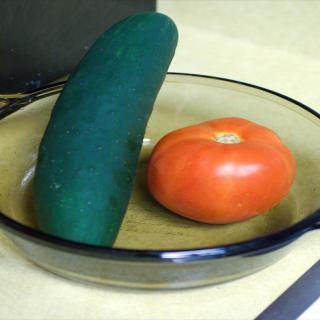tomato: (146, 117, 300, 221)
